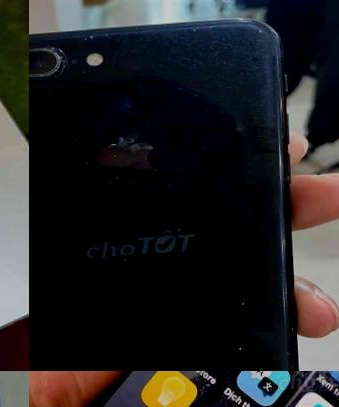scratch: (29, 14, 275, 85), (29, 117, 98, 173), (102, 126, 163, 182), (276, 323, 302, 371), (232, 292, 249, 355)
